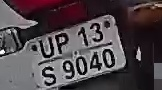0: (102, 49, 117, 69), (75, 57, 88, 76)
1: (76, 27, 91, 47)
3: (90, 23, 105, 44)
4: (89, 52, 103, 73)
9: (60, 59, 78, 80)
P: (53, 32, 70, 53)
S: (42, 66, 59, 86)
U: (37, 36, 57, 58)
